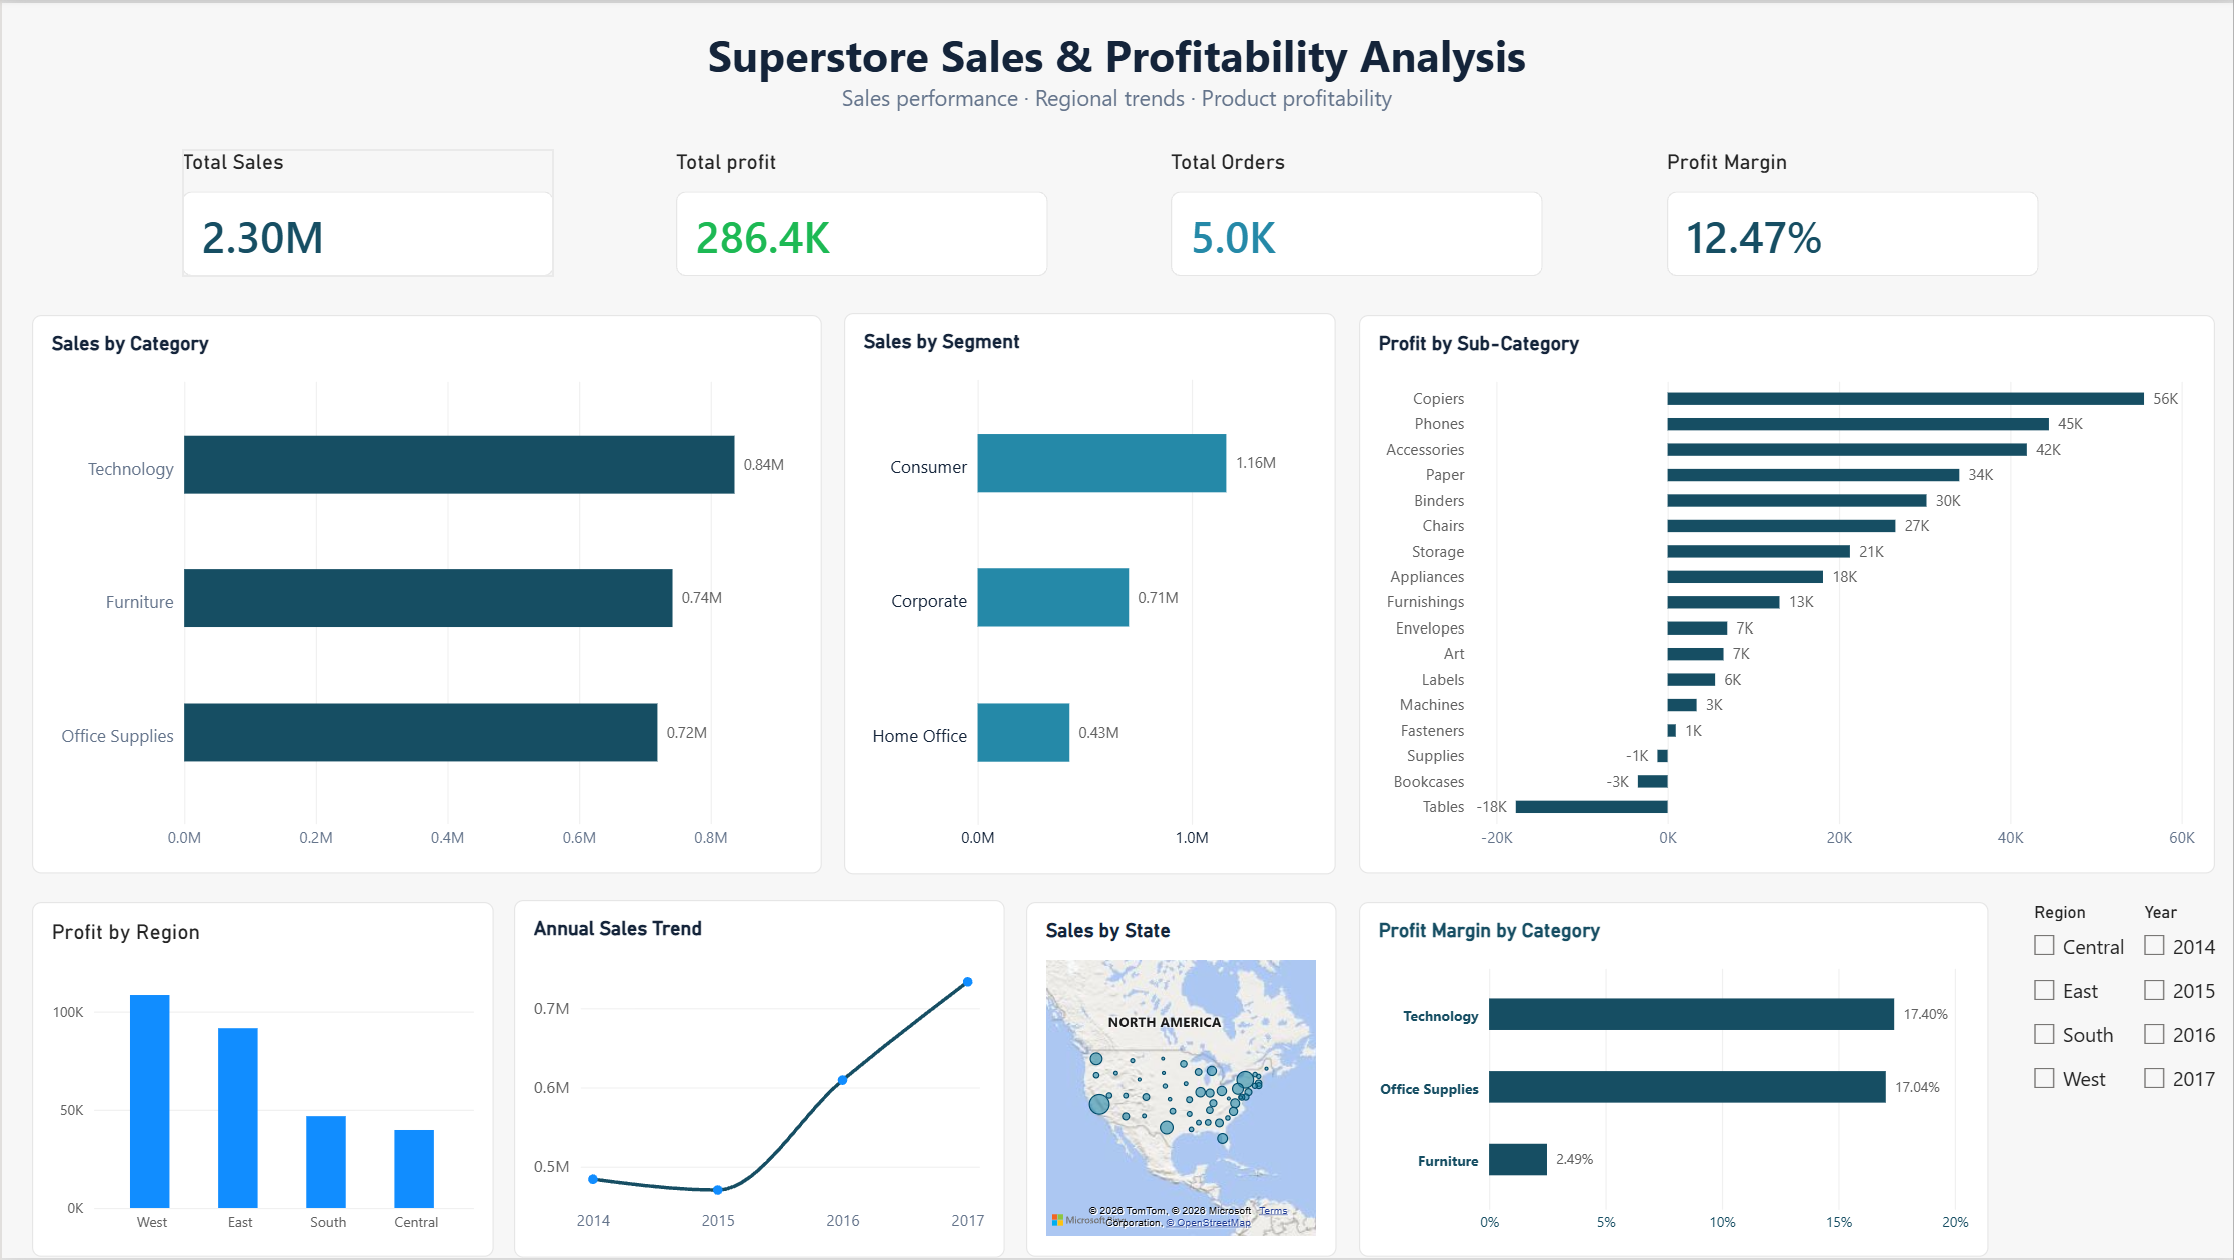

This screenshot's page, from the dashboard's own definition file:
{"tool":"powerbi","page":{"name":"Page 1","canvas":[1920,1080],"ordinal":0},"visuals":[{"type":"cardVisual","title":"Total Sales","fields":{"Data":["Sum(Sample - Superstore.Sales)"]},"box":[155,126.3,320,110],"z":0},{"type":"cardVisual","title":"Total profit","fields":{"Data":["Sum(Sample - Superstore.Profit)"]},"box":[580.7,126.3,320,110],"z":1000},{"type":"cardVisual","title":"Total Orders","fields":{"Data":["Count(Sample - Superstore.Order ID)"]},"box":[1006.3,126.3,320,110],"z":2000},{"type":"cardVisual","title":"Profit Margin","fields":{"Data":["Sample - Superstore.Profit Margin"]},"box":[1432,126.3,320,110],"z":3000},{"type":"clusteredBarChart","title":"Sales by Category","fields":{"Category":["Sample - Superstore.Category"],"Y":["Sum(Sample - Superstore.Sales)"]},"box":[25.3,268.3,679.8,480],"z":4000},{"type":"clusteredBarChart","title":"Profit by Sub-Category","fields":{"Category":["Sample - Superstore.Sub-Category"],"Y":["Sum(Sample - Superstore.Profit)"]},"box":[1166.7,268.3,737.2,480],"z":5000},{"type":"clusteredColumnChart","title":"Profit by Region","fields":{"Category":["Sample - Superstore.Region"],"Y":["Sum(Sample - Superstore.Profit)"]},"box":[25.3,774,397.3,305.5],"z":6000},{"type":"lineChart","title":"Annual Sales Trend","fields":{"Category":["Sample - Superstore.Order Date.Variation.Date Hierarchy.Year"],"Y":["Sum(Sample - Superstore.Sales)"]},"box":[441,771.7,422.6,307.8],"z":7000},{"type":"clusteredBarChart","title":"Sales by Segment","fields":{"Category":["Sample - Superstore.Segment"],"Y":["Sum(Sample - Superstore.Sales)"]},"box":[724.6,267.2,422.6,482.3],"z":8000},{"type":"textbox","box":[558.4,0,803.2,152.4],"z":9000},{"type":"slicer","fields":{"Values":["Sample - Superstore.Region"]},"box":[1740.9,774,94.2,305.5],"z":10000},{"type":"slicer","fields":{"Values":["Sample - Superstore.Order Date.Variation.Date Hierarchy.Year"]},"box":[1835,774,85,305.5],"z":11000},{"type":"map","title":"Sales by State","fields":{"Category":["Sample - Superstore.State"],"Size":["Sum(Sample - Superstore.Sales)"]},"box":[881.9,774,266.4,305.5],"z":12000},{"type":"clusteredBarChart","fields":{"Category":["Sample - Superstore.Category"],"Y":["Sample - Superstore.Profit Margin"]},"box":[1166.7,774,542,305.5],"z":13000},{"type":"textbox","box":[25.3,0,39,39],"z":14000}]}

Visuals, with their boxes in screenshot pixels (x1, y1, x2, y2), scaled from the page's 1920x1080 canvas onto the 2234x1260 screenshot:
"Total Sales" cardVisual: {"x1": 180, "y1": 147, "x2": 553, "y2": 276}
"Total profit" cardVisual: {"x1": 676, "y1": 147, "x2": 1048, "y2": 276}
"Total Orders" cardVisual: {"x1": 1171, "y1": 147, "x2": 1543, "y2": 276}
"Profit Margin" cardVisual: {"x1": 1666, "y1": 147, "x2": 2039, "y2": 276}
"Sales by Category" clusteredBarChart: {"x1": 29, "y1": 313, "x2": 820, "y2": 873}
"Profit by Sub-Category" clusteredBarChart: {"x1": 1358, "y1": 313, "x2": 2215, "y2": 873}
"Profit by Region" clusteredColumnChart: {"x1": 29, "y1": 903, "x2": 492, "y2": 1259}
"Annual Sales Trend" lineChart: {"x1": 513, "y1": 900, "x2": 1005, "y2": 1259}
"Sales by Segment" clusteredBarChart: {"x1": 843, "y1": 312, "x2": 1335, "y2": 874}
textbox: {"x1": 650, "y1": 0, "x2": 1584, "y2": 178}
slicer - Sample - Superstore.Region: {"x1": 2026, "y1": 903, "x2": 2135, "y2": 1259}
slicer - Sample - Superstore.Order Date.Variation.Date Hierarchy.Year: {"x1": 2135, "y1": 903, "x2": 2233, "y2": 1259}
"Sales by State" map: {"x1": 1026, "y1": 903, "x2": 1336, "y2": 1259}
clusteredBarChart - Sample - Superstore.Category x Sample - Superstore.Profit Margin: {"x1": 1358, "y1": 903, "x2": 1988, "y2": 1259}
textbox: {"x1": 29, "y1": 0, "x2": 75, "y2": 46}
